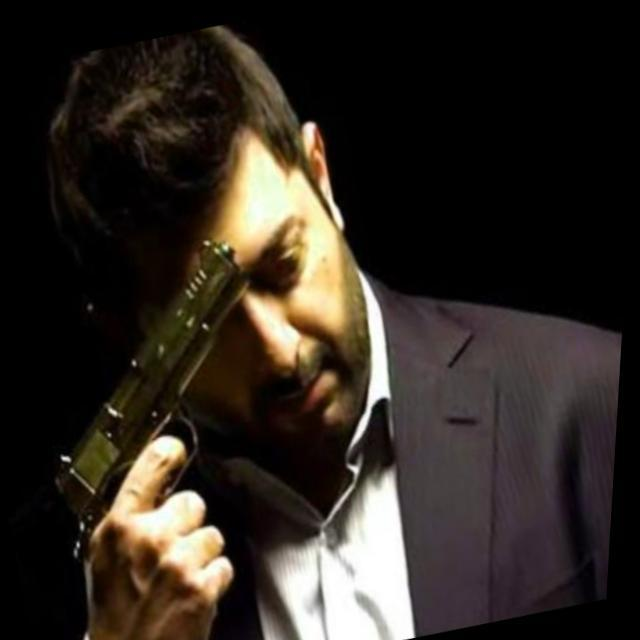weapon: (0, 216, 339, 638)
